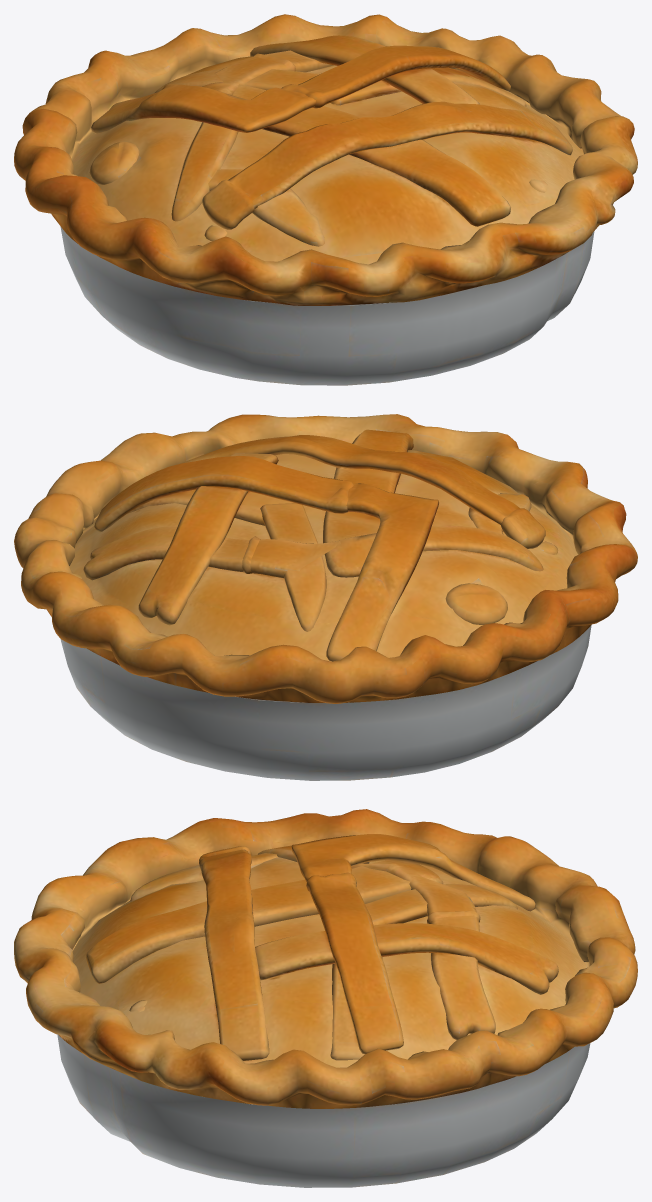
File: apple+pie+3d+model.glb
3 renders of one model, top to bottom at view 1: azimuth 30°, elevation 25°; view 2: azimuth 150°, elevation 25°; view 3: azimuth 270°, elevation 25°, orthographic.
Parts seen in each view (by area): view 1: tripo_node_ba2d14ba-6a37-4151-9ab5-256f75ae887e; view 2: tripo_node_ba2d14ba-6a37-4151-9ab5-256f75ae887e; view 3: tripo_node_ba2d14ba-6a37-4151-9ab5-256f75ae887e.
Boxes of the visible parts, bbox=[...] form: tripo_node_ba2d14ba-6a37-4151-9ab5-256f75ae887e: bbox=[14, 14, 637, 385]; tripo_node_ba2d14ba-6a37-4151-9ab5-256f75ae887e: bbox=[14, 414, 637, 780]; tripo_node_ba2d14ba-6a37-4151-9ab5-256f75ae887e: bbox=[14, 809, 637, 1187].
Size of the model in its own units: 0.9995 by 0.3823 by 0.9985.
Materials: 1 (1 with a texture image).
